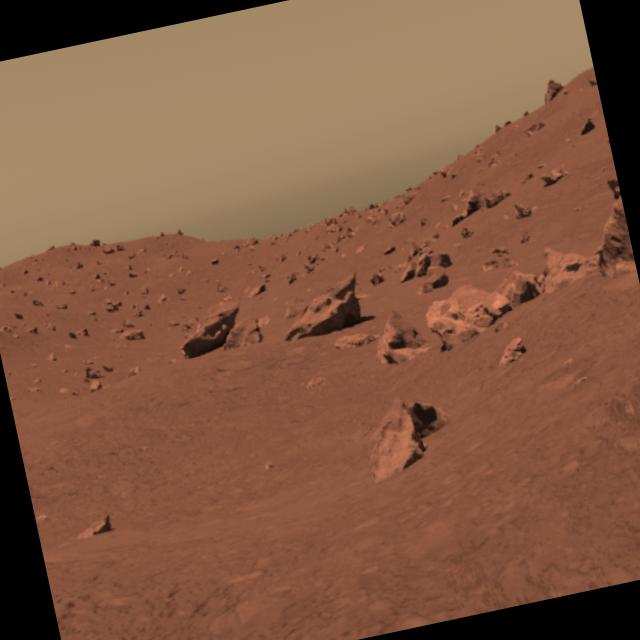rock: (346, 383, 448, 491), (411, 269, 519, 358), (272, 268, 368, 349)
